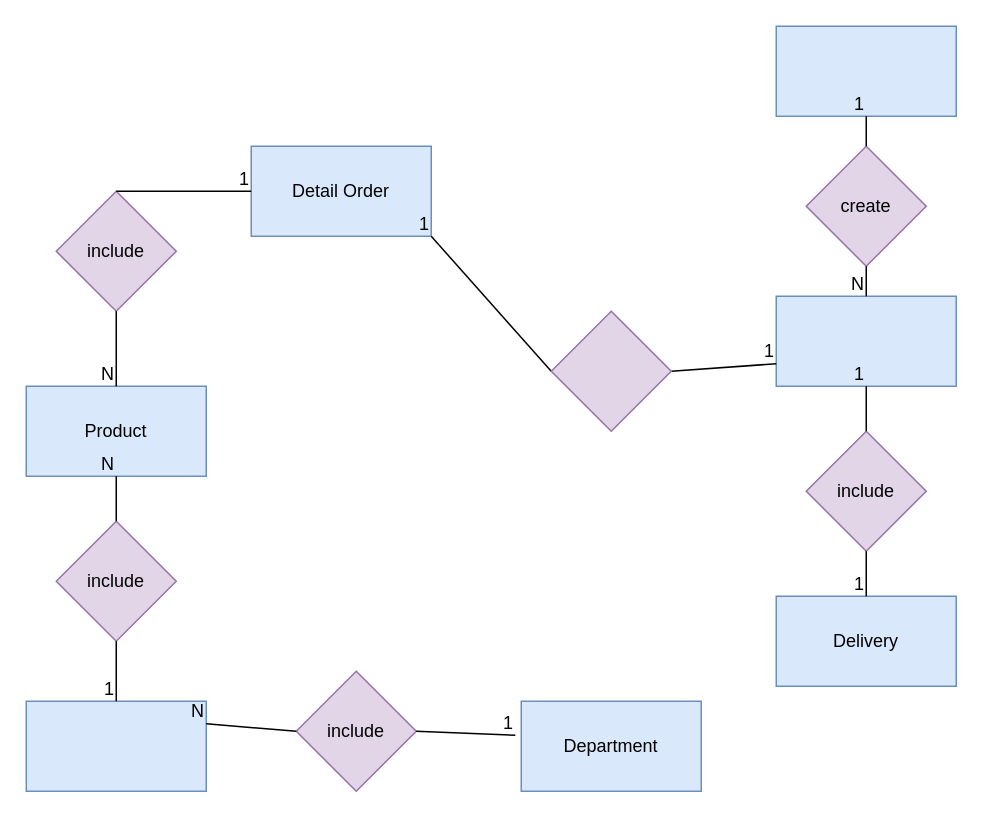
This 983x818 diagram has some shape labels left out. The centre of each missing label's shape, as x and y in pixels:
Category: [115,745]
Customer: [865,70]
extend: [610,370]
Order: [865,340]
